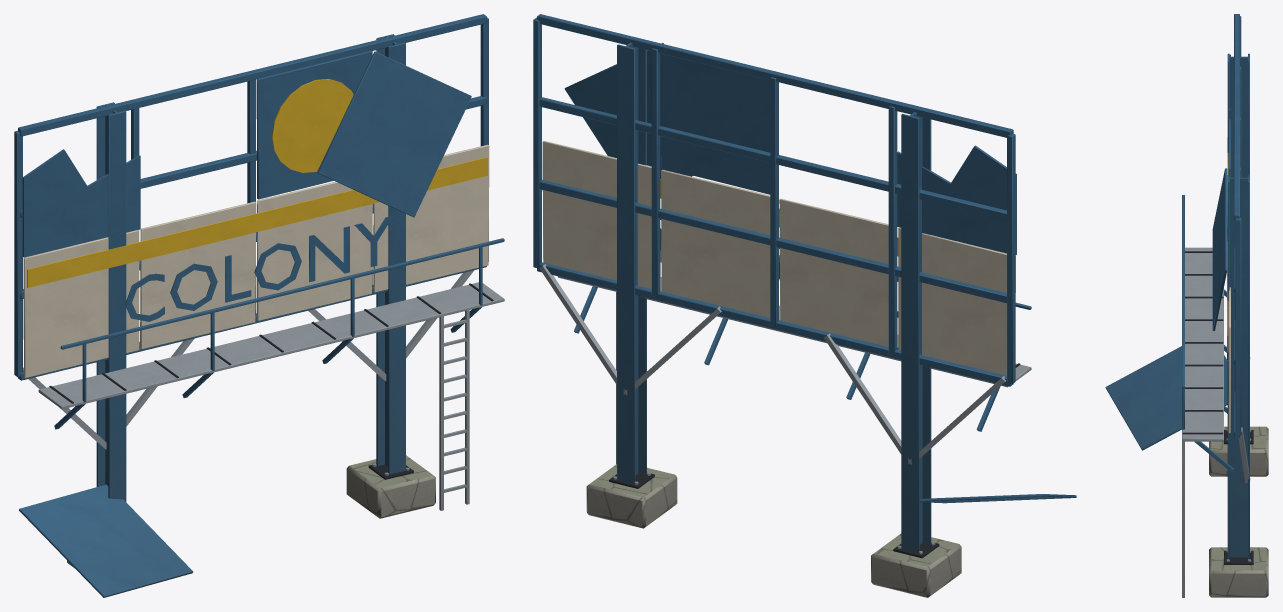
The model's file is billboard_frame.glb.
The picture shows the model from 3 angles, left to right: view 1: azimuth 30°, elevation 25°; view 2: azimuth 150°, elevation 25°; view 3: azimuth 270°, elevation 25°; orthographic projection. The views are drawn at different scales.
Parts seen in each view (by area): view 1: billboard_frame; view 2: billboard_frame; view 3: billboard_frame.
Boxes of the visible parts, <box> form: billboard_frame: <box>14,14,504,597</box>; billboard_frame: <box>533,14,1076,597</box>; billboard_frame: <box>1105,14,1268,597</box>.
Bounding box in the file's own units: 8.32 × 7.61 × 2.74.
9 materials, 9 textured.
